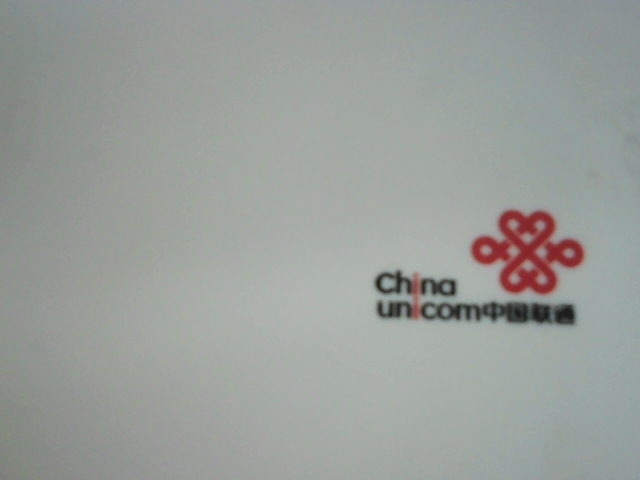ChinaUnicom: (350, 192, 591, 345)
